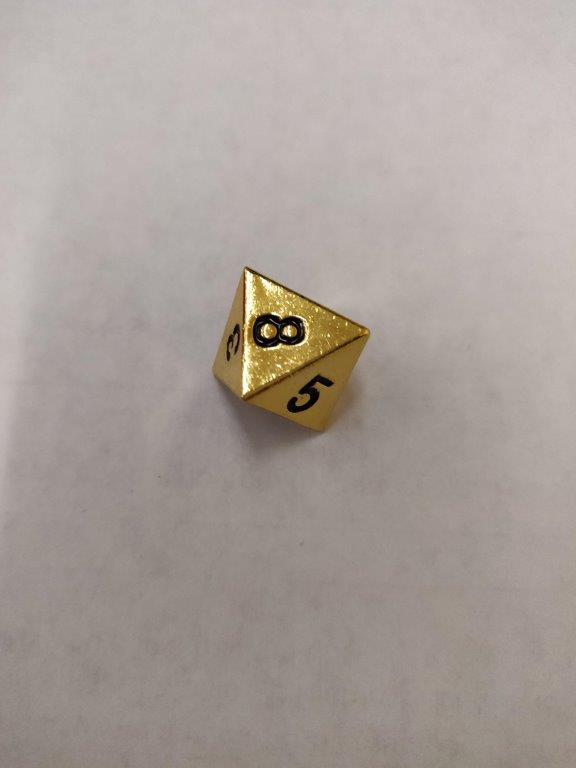d8-8: (210, 264, 368, 435)
